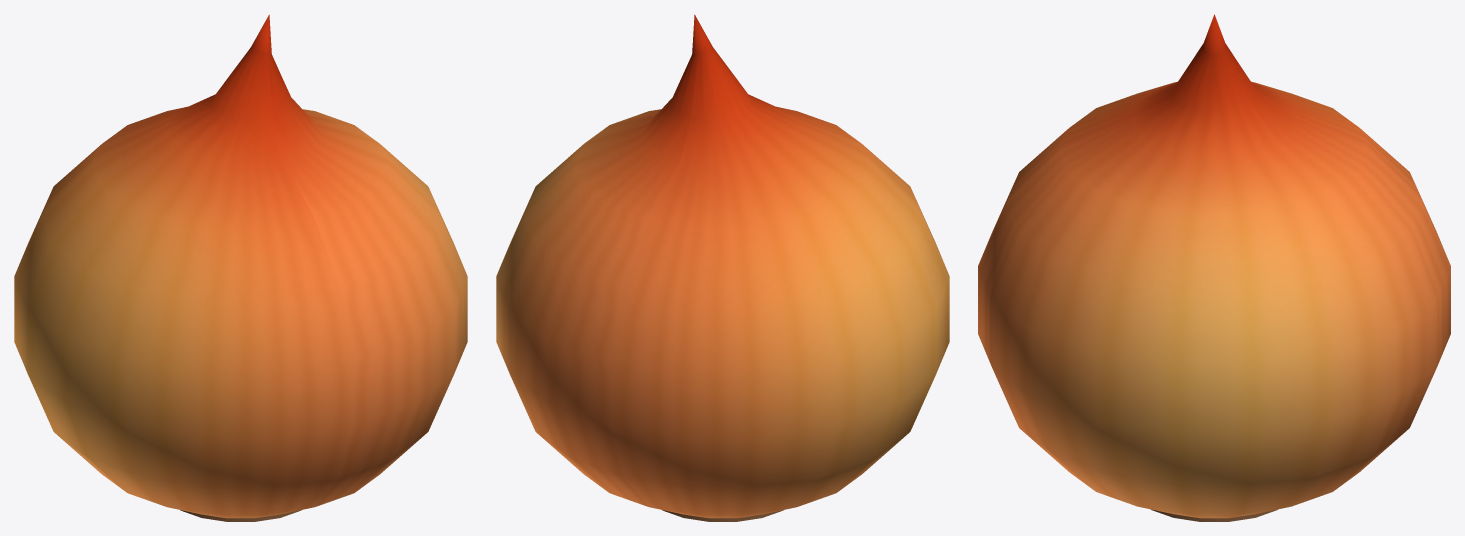
File: onion.FBX
3 renders of one model, left to right at view 1: azimuth 30°, elevation 25°; view 2: azimuth 150°, elevation 25°; view 3: azimuth 270°, elevation 25°, orthographic. The views are drawn at different scales.
Visible parts, largest first — view 1: onion; view 2: onion; view 3: onion.
Part boxes in pixels (x1,y1,x2,y2): onion: [14, 14, 467, 521]; onion: [496, 14, 949, 521]; onion: [978, 14, 1450, 521].
Size of the model in its own units: 34 by 39.33 by 34.52.
